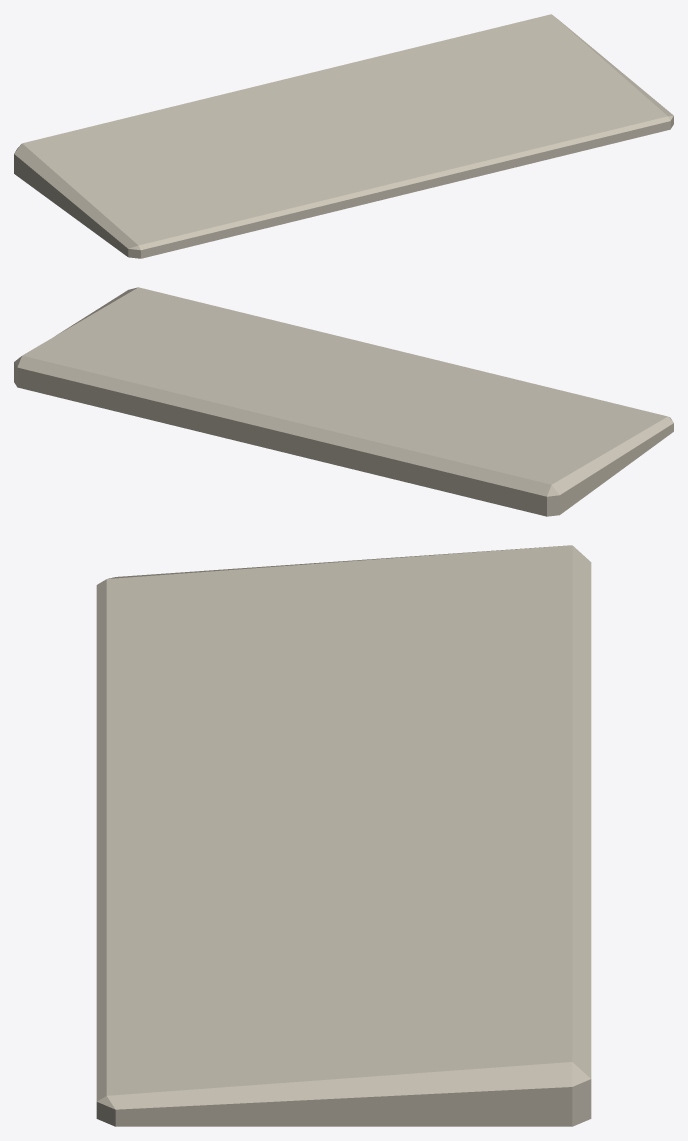
File: Keyboard.fbx
The picture shows the model from 3 angles, top to bottom: view 1: azimuth 30°, elevation 25°; view 2: azimuth 150°, elevation 25°; view 3: azimuth 270°, elevation 25°; orthographic projection. The views are drawn at different scales.
Parts seen in each view (by area): view 1: pCube2; view 2: pCube2; view 3: pCube2.
Part boxes in pixels (<box>): pCube2: <box>14,14,673,258</box>; pCube2: <box>14,287,673,516</box>; pCube2: <box>96,545,591,1126</box>.
Size of the model in its own units: 2.55 by 0.127 by 1.
1 material, 1 textured.
